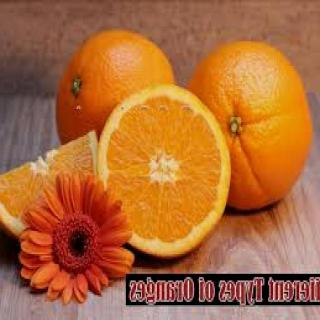orange: (174, 27, 312, 222), (101, 74, 233, 274), (40, 18, 185, 172)
